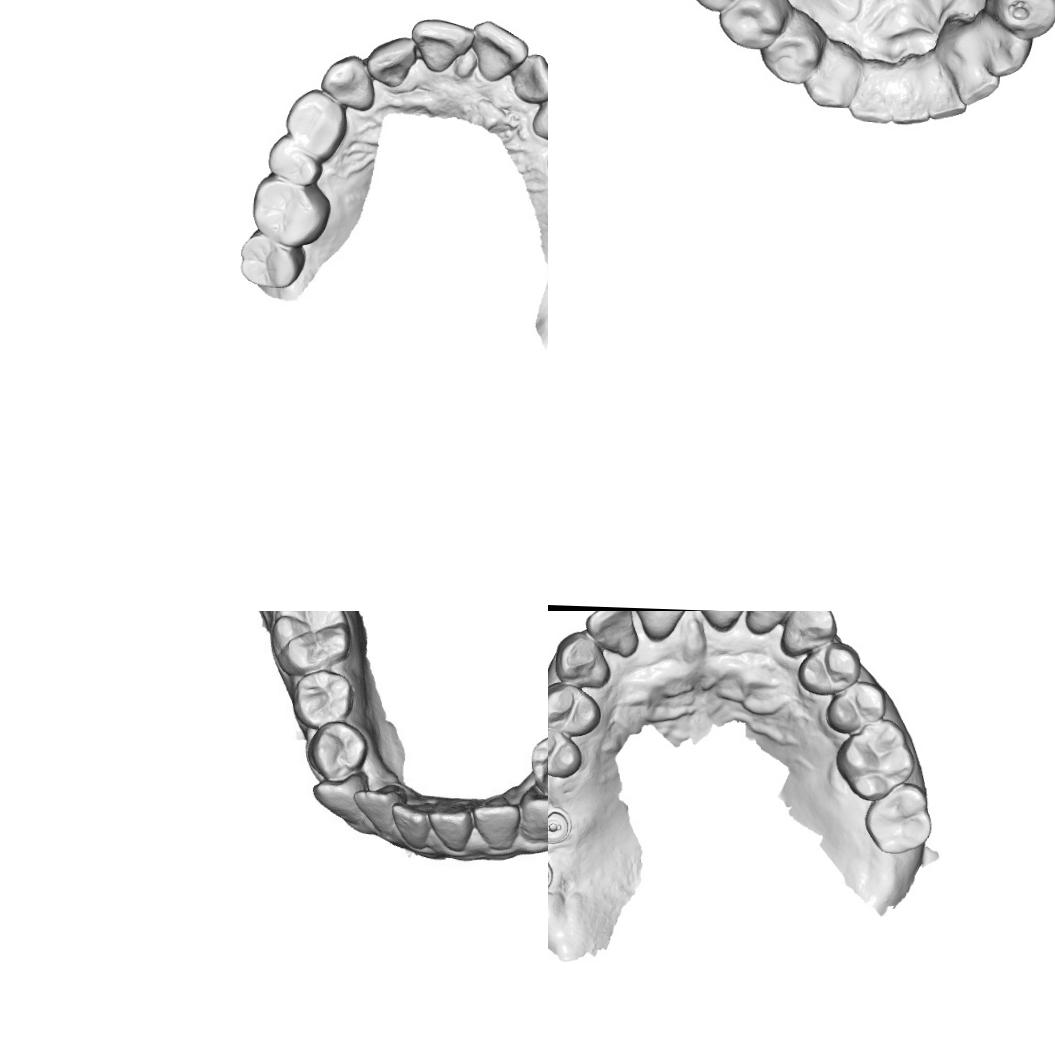canine: (552, 630, 613, 689), (318, 51, 376, 113), (313, 771, 376, 826), (806, 48, 860, 111), (976, 24, 1032, 78), (784, 611, 838, 660), (522, 790, 548, 844), (530, 87, 548, 144)
implant_minus: (548, 802, 573, 848)
incisor: (469, 16, 529, 86), (409, 16, 474, 76), (357, 781, 408, 840), (364, 34, 418, 88), (951, 54, 1002, 109), (846, 70, 895, 124), (583, 611, 640, 657), (430, 802, 479, 854), (474, 802, 524, 850), (392, 798, 440, 846), (924, 74, 970, 120), (509, 52, 548, 106), (888, 76, 930, 125), (627, 611, 692, 642), (687, 611, 753, 637), (744, 611, 796, 639)
molar: (833, 718, 916, 804), (250, 172, 333, 248), (863, 782, 934, 855), (269, 611, 356, 669), (238, 229, 308, 290)
premolar: (283, 88, 349, 162), (761, 22, 824, 86), (716, 0, 785, 54), (795, 641, 862, 696), (824, 679, 888, 736), (266, 134, 325, 188), (548, 680, 603, 737), (990, 0, 1055, 46), (296, 671, 352, 724), (309, 722, 363, 776), (548, 725, 585, 780), (531, 732, 548, 795)
